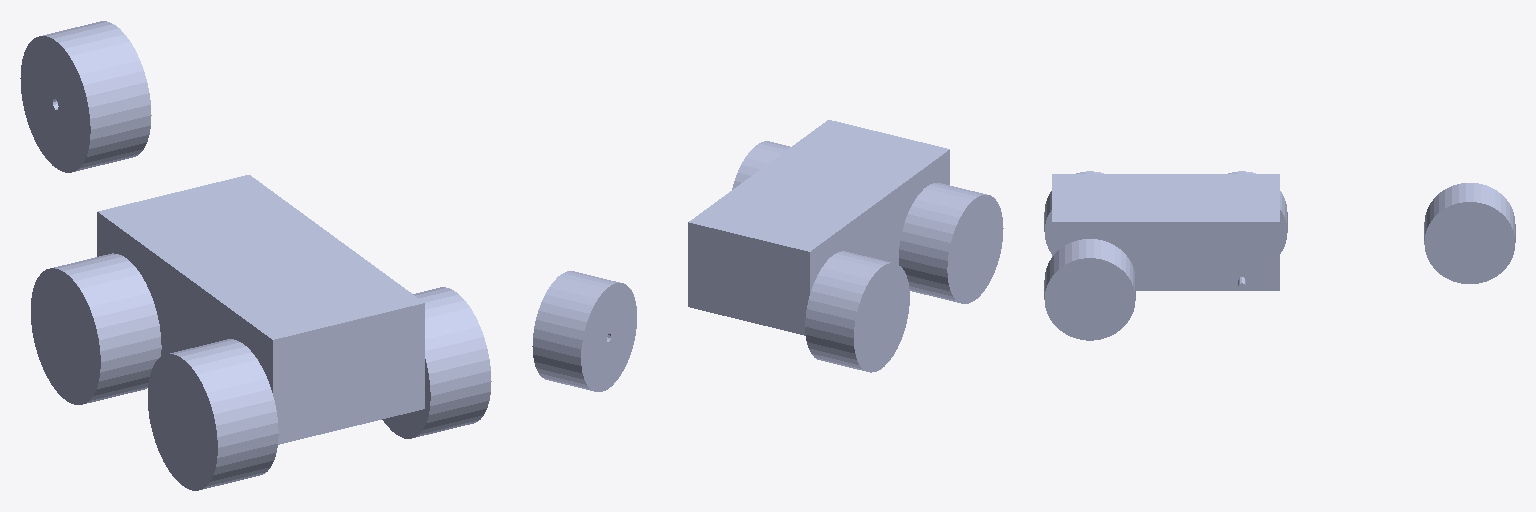
URDF robot description (4_WHEELER_description):
<?xml version="1.0" encoding="utf-8"?>
<!-- This URDF was automatically created by SolidWorks to URDF Exporter! Originally created by [author] ([email redacted]) 
     Commit Version: 1.4.4-6-g2742936-dirty  Build Version: 1.4.6968.15956
     For more information, please see http://wiki.ros.org/sw_urdf_exporter -->
<robot
  name="4_WHEELER_description">
  <link
    name="base_link">
    <inertial>
      <origin
        xyz="-0.0141165384615385 4.23948754846086E-19 0.00692383725632013"
        rpy="0 0 0" />
      <mass
        value="0.563205630345987" />
      <inertia
        ixx="0.00117384279611469"
        ixy="9.99854565423472E-20"
        ixz="-1.5465718715316E-20"
        iyy="0.000382342529746245"
        iyz="1.9910139953764E-20"
        izz="0.00132140486649909" />
    </inertial>
    <visual>
      <origin
        xyz="0 0 0"
        rpy="0 0 0" />
      <geometry>
        <mesh
          filename="package://4_WHEELER_description/meshes/base_link.STL" />
      </geometry>
      <material
        name="">
        <color
          rgba="0.792156862745098 0.819607843137255 0.933333333333333 1" />
      </material>
    </visual>
    <collision>
      <origin
        xyz="0 0 0"
        rpy="0 0 0" />
      <geometry>
        <mesh
          filename="package://4_WHEELER_description/meshes/base_link.STL" />
      </geometry>
    </collision>
  </link>
  <link
    name="front_right_link">
    <inertial>
      <origin
        xyz="0.0150232018561485 0 0"
        rpy="0 0 0" />
      <mass
        value="0.084626652106075" />
      <inertia
        ixx="3.81697371488008E-05"
        ixy="1.15941736867104E-37"
        ixz="-1.38810202635152E-24"
        iyy="2.54252769409231E-05"
        iyz="1.06543524839393E-40"
        izz="2.54252769409231E-05" />
    </inertial>
    <visual>
      <origin
        xyz="0 0 0"
        rpy="0 0 0" />
      <geometry>
        <mesh
          filename="package://4_WHEELER_description/meshes/front_right_link.STL" />
      </geometry>
      <material
        name="">
        <color
          rgba="0.792156862745098 0.819607843137255 0.933333333333333 1" />
      </material>
    </visual>
    <collision>
      <origin
        xyz="0 0 0"
        rpy="0 0 0" />
      <geometry>
        <mesh
          filename="package://4_WHEELER_description/meshes/front_right_link.STL" />
      </geometry>
    </collision>
  </link>
  <joint
    name="front_right_joint"
    type="continuous">
    <origin
      xyz="-0.0516165384615385 -0.05 -0.00997411961288419"
      rpy="1.5707963267949 0 3.14159265358979" />
    <parent
      link="base_link" />
    <child
      link="front_right_link" />
    <axis
      xyz="1 0 0" />
    <safety_controller
      k_velocity="0" />
  </joint>
  <link
    name="back_right_link">
    <inertial>
      <origin
        xyz="0.0150232018561485 1.73472347597681E-18 6.93889390390723E-18"
        rpy="0 0 0" />
      <mass
        value="0.084626652106075" />
      <inertia
        ixx="3.81697371488008E-05"
        ixy="-7.40219872782327E-38"
        ixz="7.0944970673424E-24"
        iyy="2.54252769409231E-05"
        iyz="2.64481672201998E-40"
        izz="2.54252769409231E-05" />
    </inertial>
    <visual>
      <origin
        xyz="0 0 0"
        rpy="0 0 0" />
      <geometry>
        <mesh
          filename="package://4_WHEELER_description/meshes/back_right_link.STL" />
      </geometry>
      <material
        name="">
        <color
          rgba="0.792156862745098 0.819607843137255 0.933333333333333 1" />
      </material>
    </visual>
    <collision>
      <origin
        xyz="0 0 0"
        rpy="0 0 0" />
      <geometry>
        <mesh
          filename="package://4_WHEELER_description/meshes/back_right_link.STL" />
      </geometry>
    </collision>
  </link>
  <joint
    name="back_right_joint"
    type="continuous">
    <origin
      xyz="-0.0516165384615385 0.05 -0.00997411961288421"
      rpy="1.5707963267949 0 3.14159265358979" />
    <parent
      link="base_link" />
    <child
      link="back_right_link" />
    <axis
      xyz="1 0 0" />
    <safety_controller
      k_velocity="0" />
  </joint>
  <link
    name="front_left_link">
    <inertial>
      <origin
        xyz="0.0150232018561485 0 6.93889390390723E-18"
        rpy="0 0 0" />
      <mass
        value="0.084626652106075" />
      <inertia
        ixx="3.81697371488008E-05"
        ixy="-8.25084535794452E-38"
        ixz="8.66046310517947E-24"
        iyy="2.54252769409231E-05"
        iyz="2.95137923266854E-38"
        izz="2.54252769409231E-05" />
    </inertial>
    <visual>
      <origin
        xyz="0 0 0"
        rpy="0 0 0" />
      <geometry>
        <mesh
          filename="package://4_WHEELER_description/meshes/front_left_link.STL" />
      </geometry>
      <material
        name="">
        <color
          rgba="0.792156862745098 0.819607843137255 0.933333333333333 1" />
      </material>
    </visual>
    <collision>
      <origin
        xyz="0 0 0"
        rpy="0 0 0" />
      <geometry>
        <mesh
          filename="package://4_WHEELER_description/meshes/front_left_link.STL" />
      </geometry>
    </collision>
  </link>
  <joint
    name="front_left_joint"
    type="continuous">
    <origin
      xyz="0.0233834615384615 -0.05 -0.0099741196128842"
      rpy="1.5707963267949 0 0" />
    <parent
      link="base_link" />
    <child
      link="front_left_link" />
    <axis
      xyz="-1 0 0" />
    <safety_controller
      k_velocity="0" />
  </joint>
  <link
    name="back_left_link">
    <inertial>
      <origin
        xyz="0.0150232018561485 0 0"
        rpy="0 0 0" />
      <mass
        value="0.084626652106075" />
      <inertia
        ixx="3.81697371488008E-05"
        ixy="-8.25084535794452E-38"
        ixz="7.84265519175544E-24"
        iyy="2.54252769409231E-05"
        iyz="-8.35361953230723E-38"
        izz="2.54252769409231E-05" />
    </inertial>
    <visual>
      <origin
        xyz="0 0 0"
        rpy="0 0 0" />
      <geometry>
        <mesh
          filename="package://4_WHEELER_description/meshes/back_left_link.STL" />
      </geometry>
      <material
        name="">
        <color
          rgba="0.792156862745098 0.819607843137255 0.933333333333333 1" />
      </material>
    </visual>
    <collision>
      <origin
        xyz="0 0 0"
        rpy="0 0 0" />
      <geometry>
        <mesh
          filename="package://4_WHEELER_description/meshes/back_left_link.STL" />
      </geometry>
    </collision>
  </link>
  <joint
    name="back_left_joint"
    type="continuous">
    <origin
      xyz="0.0233834615384615 0.05 -0.00997411961288421"
      rpy="1.5707963267949 0 0" />
    <parent
      link="base_link" />
    <child
      link="back_left_link" />
    <axis
      xyz="-1 0 0" />
    <safety_controller
      k_velocity="0" />
  </joint>
</robot>

--- Render facts (derived) ---
Views: 3 orthographic renders of the robot side by side, from view 1: azimuth 30°, elevation 25°; view 2: azimuth 150°, elevation 25°; view 3: azimuth 270°, elevation 25°.
Robot: 4_WHEELER_description — 5 links, 4 joints (4 continuous); root link base_link; default pose: all joints at 0.
Links seen in each view (by area): view 1: base_link, front_right_link, back_left_link, back_right_link, front_left_link; view 2: base_link, back_right_link, back_left_link, front_right_link, front_left_link; view 3: base_link, front_left_link, back_left_link.
Boxes of the visible links, x1,y1,x2,y2 form: base_link: [97, 175, 424, 444]; front_right_link: [148, 339, 278, 490]; back_left_link: [20, 21, 151, 172]; back_right_link: [31, 253, 161, 404]; front_left_link: [382, 287, 491, 438]; base_link: [688, 120, 949, 335]; back_right_link: [805, 251, 909, 372]; back_left_link: [532, 271, 636, 391]; front_right_link: [899, 183, 1003, 303]; front_left_link: [732, 141, 789, 189]; base_link: [1052, 174, 1279, 290]; front_left_link: [1044, 239, 1135, 340]; back_left_link: [1424, 183, 1515, 283].
Bounding box of the posed robot: 0.135 × 0.31 × 0.0897 m (x, y, z).
Meshes: 5 distinct files referenced, 5 mesh visuals loaded (5 binary STL).